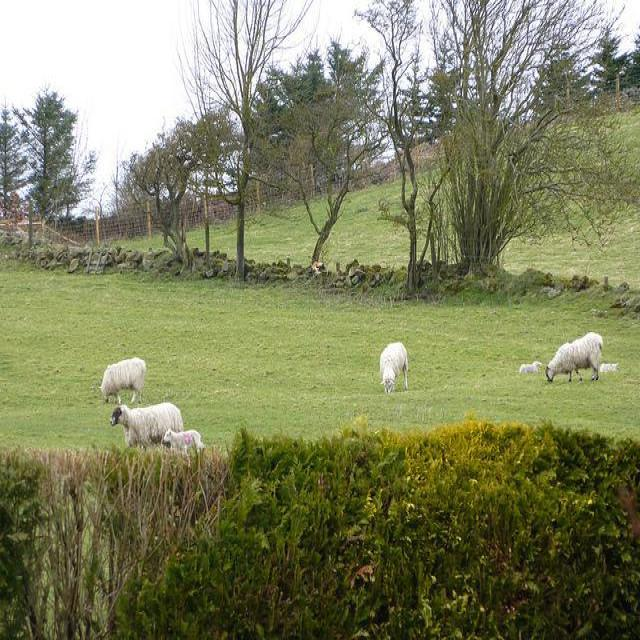Sheep: (110, 401, 182, 452), (546, 333, 603, 384), (99, 358, 146, 406)
